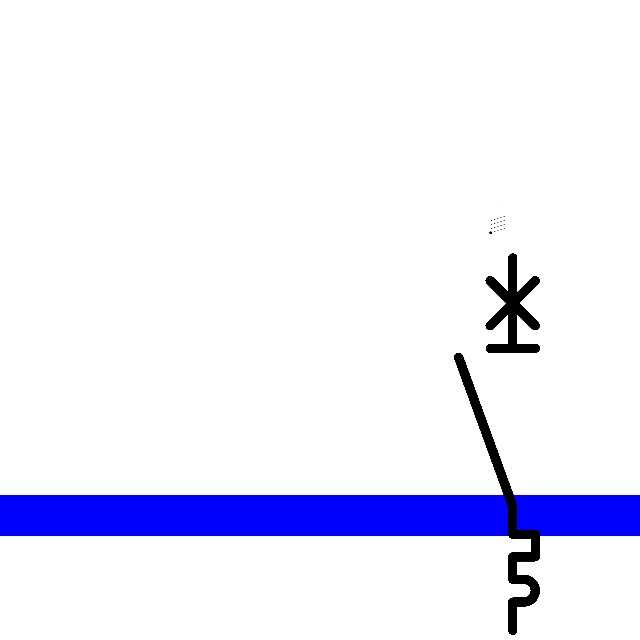interruptor_termomagnetico: (449, 248, 545, 639)
